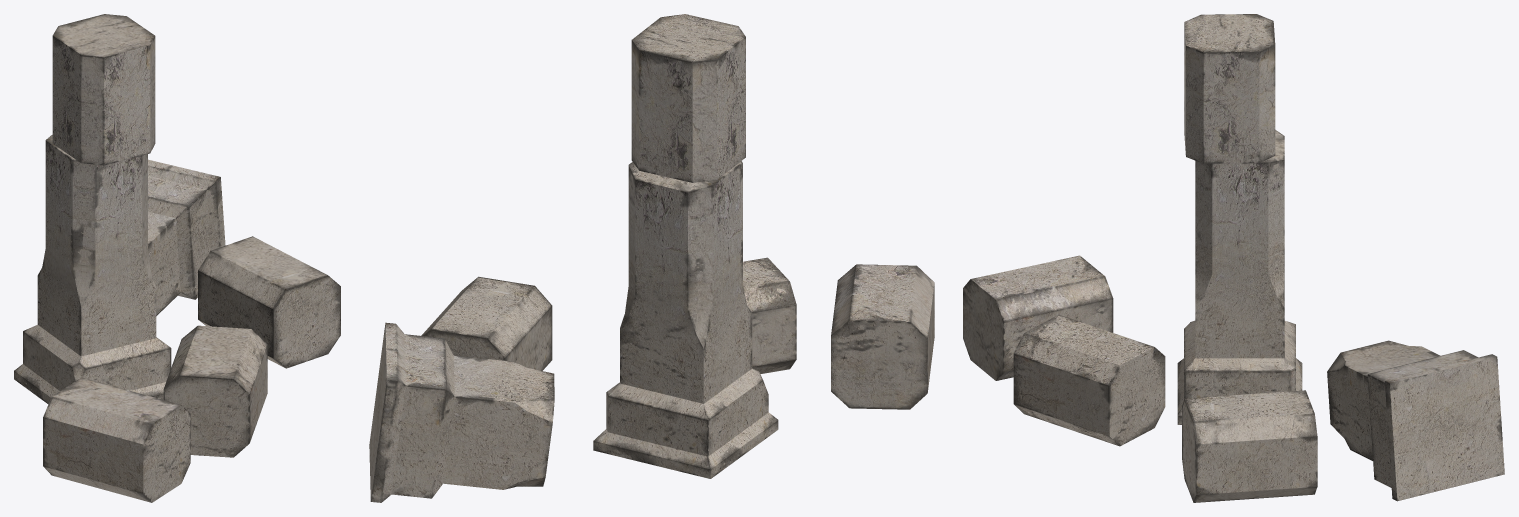
Rendered from column_a_03.FBX.
The picture shows the model from 3 angles, left to right: view 1: azimuth 30°, elevation 25°; view 2: azimuth 150°, elevation 25°; view 3: azimuth 270°, elevation 25°; orthographic projection. The views are drawn at different scales.
Visible parts, largest first — view 1: Box004, Object005, Object002, Object003, Object004, Object001; view 2: Box004, Object001, Object005, Object002, Object003, Object004; view 3: Box004, Object001, Object004, Object003, Object005, Object002.
Boxes of the visible parts, box(x1,y1,x2,y2) form: Box004: box(14, 135, 171, 404); Object005: box(52, 14, 155, 165); Object002: box(43, 377, 190, 502); Object003: box(198, 236, 340, 368); Object004: box(163, 325, 267, 457); Object001: box(148, 159, 225, 315); Box004: box(593, 161, 778, 478); Object001: box(369, 322, 554, 502); Object005: box(631, 14, 745, 182); Object002: box(831, 264, 934, 409); Object003: box(421, 276, 552, 370); Object004: box(743, 257, 796, 373); Box004: box(1177, 130, 1302, 424); Object001: box(1327, 340, 1504, 501); Object004: box(1013, 314, 1165, 446); Object003: box(1182, 390, 1317, 502); Object005: box(1184, 14, 1275, 163); Object002: box(963, 255, 1113, 380).
Bounding box in the file's own units: 456 × 434 × 582.
